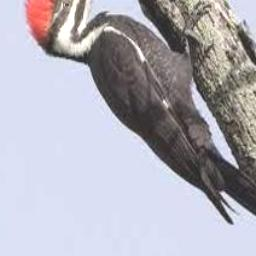Woodpecker: (24, 0, 256, 244)
